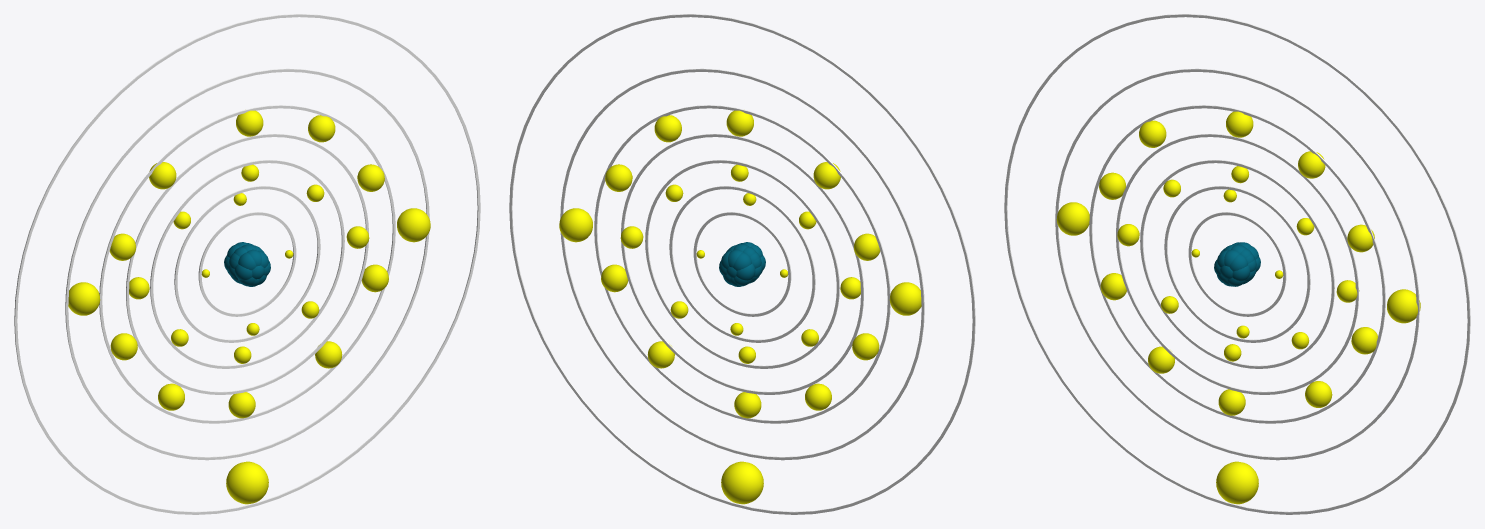
Rendered from Molecule.glb.
The picture shows the model from 3 angles, left to right: view 1: azimuth 30°, elevation 25°; view 2: azimuth 150°, elevation 25°; view 3: azimuth 330°, elevation 25°; orthographic projection.
Parts seen in each view (by area): view 1: pasted__pasted__pasted__pasted__pasted__pPipe1, pasted__pasted__pasted__pasted__pPipe1, pasted__pasted__pasted__pPipe1, pasted__pasted__pasted__pPipe2, pasted__pasted__pPipe1, pasted__pPipe1, group15, pSphere55, pPipe1, pSphere54, pSphere53, pSphere52 (+9 smaller); view 2: pasted__pasted__pasted__pasted__pasted__pPipe1, pasted__pasted__pasted__pasted__pPipe1, pasted__pasted__pasted__pPipe1, pasted__pasted__pasted__pPipe2, pasted__pasted__pPipe1, pasted__pPipe1, group15, pSphere55, pPipe1, pSphere54, pSphere53, pSphere52 (+9 smaller); view 3: pasted__pasted__pasted__pasted__pasted__pPipe1, pasted__pasted__pasted__pasted__pPipe1, pasted__pasted__pasted__pPipe1, pasted__pasted__pasted__pPipe2, pasted__pasted__pPipe1, pasted__pPipe1, group15, pSphere55, pPipe1, pSphere53, pSphere54, pSphere48 (+9 smaller).
Boxes of the visible parts, bbox=[...] form: pasted__pasted__pasted__pasted__pasted__pPipe1: bbox=[14, 14, 480, 514]; pasted__pasted__pasted__pasted__pPipe1: bbox=[65, 68, 429, 460]; pasted__pasted__pasted__pPipe1: bbox=[99, 105, 395, 423]; pasted__pasted__pasted__pPipe2: bbox=[126, 134, 368, 394]; pasted__pasted__pPipe1: bbox=[150, 160, 344, 368]; pasted__pPipe1: bbox=[174, 186, 320, 342]; group15: bbox=[224, 242, 270, 286]; pSphere55: bbox=[226, 461, 268, 504]; pPipe1: bbox=[198, 212, 296, 316]; pSphere54: bbox=[397, 208, 430, 242]; pSphere53: bbox=[68, 282, 100, 315]; pSphere52: bbox=[357, 164, 384, 191]; pasted__pasted__pasted__pasted__pasted__pPipe1: bbox=[509, 14, 975, 514]; pasted__pasted__pasted__pasted__pPipe1: bbox=[560, 68, 924, 460]; pasted__pasted__pasted__pPipe1: bbox=[594, 105, 890, 423]; pasted__pasted__pasted__pPipe2: bbox=[621, 134, 863, 394]; pasted__pasted__pPipe1: bbox=[645, 160, 839, 368]; pasted__pPipe1: bbox=[669, 186, 815, 342]; group15: bbox=[719, 242, 765, 286]; pSphere55: bbox=[721, 461, 763, 504]; pPipe1: bbox=[693, 212, 791, 316]; pSphere54: bbox=[559, 208, 592, 242]; pSphere53: bbox=[889, 282, 921, 315]; pSphere52: bbox=[605, 164, 632, 191]; pasted__pasted__pasted__pasted__pasted__pPipe1: bbox=[1004, 14, 1470, 514]; pasted__pasted__pasted__pasted__pPipe1: bbox=[1055, 68, 1419, 460]; pasted__pasted__pasted__pPipe1: bbox=[1089, 105, 1385, 423]; pasted__pasted__pasted__pPipe2: bbox=[1116, 134, 1358, 394]; pasted__pasted__pPipe1: bbox=[1140, 160, 1334, 368]; pasted__pPipe1: bbox=[1164, 186, 1310, 342]; group15: bbox=[1214, 242, 1260, 286]; pSphere55: bbox=[1216, 461, 1258, 504]; pPipe1: bbox=[1188, 212, 1286, 316]; pSphere53: bbox=[1056, 202, 1089, 235]; pSphere54: bbox=[1387, 289, 1420, 323]; pSphere48: bbox=[1139, 120, 1166, 147].
Size of the model in its own units: 9.6 by 9.59 by 0.8539.
